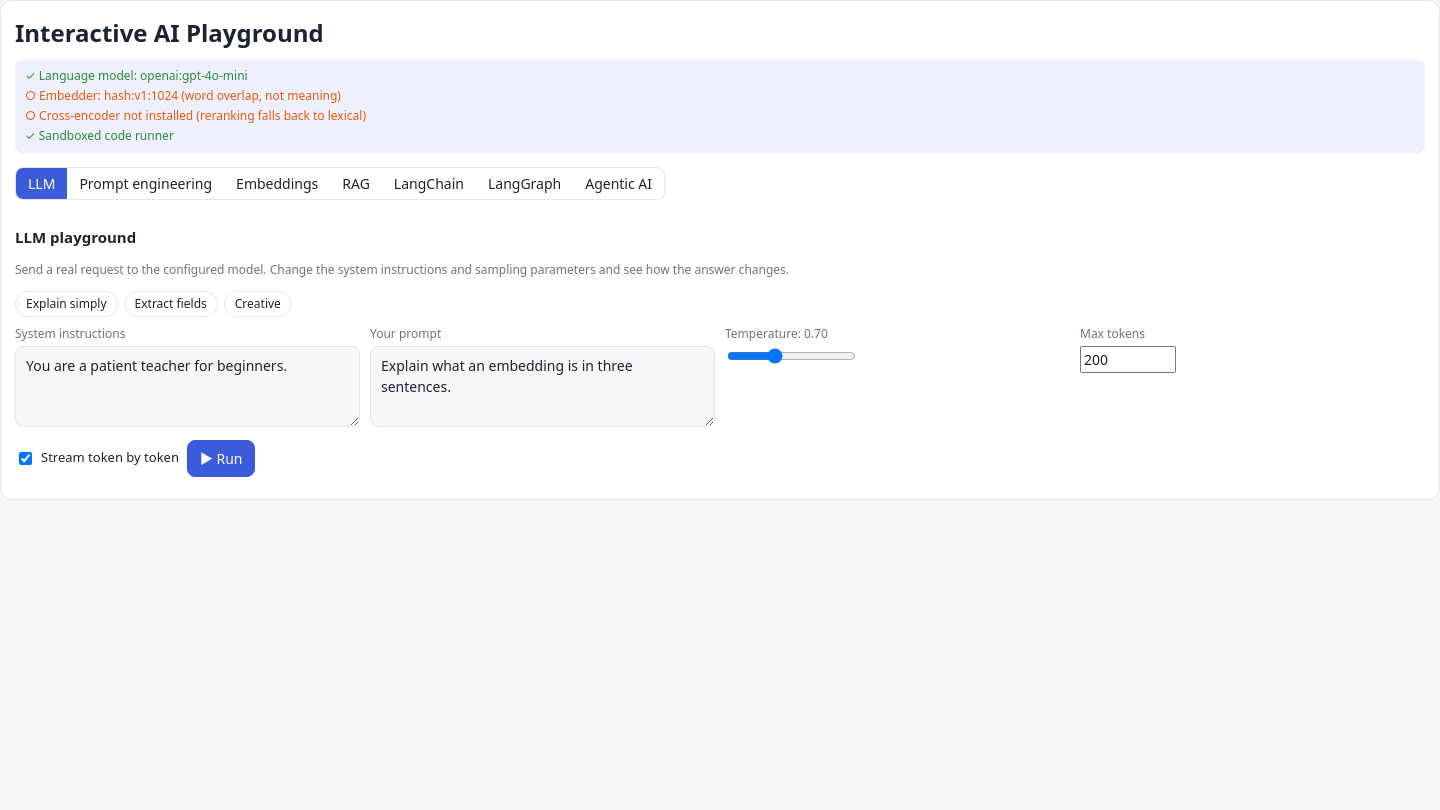
Scenario: Playground › LLM: streams tokens into the output and shows tokens, first-token time and latency
The image size is (1440, 810).
Expected: the list named "What is available on this server" is shown, [15,59,1425,153]
Click the tab "LLM" at point(42, 184), box [16,168,67,199]
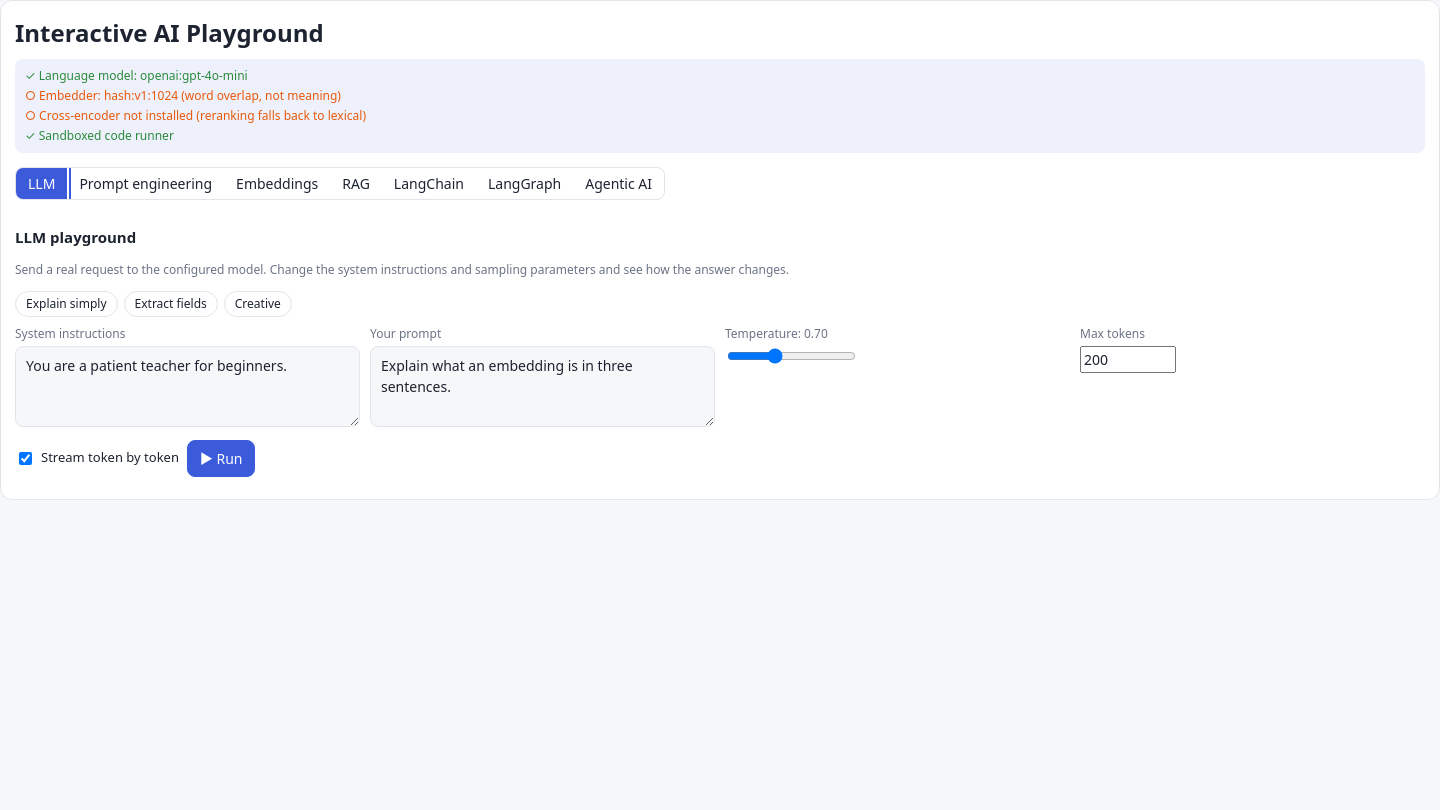
Click the button "▶ Run" at point(221, 458), box [187,440,256,476]
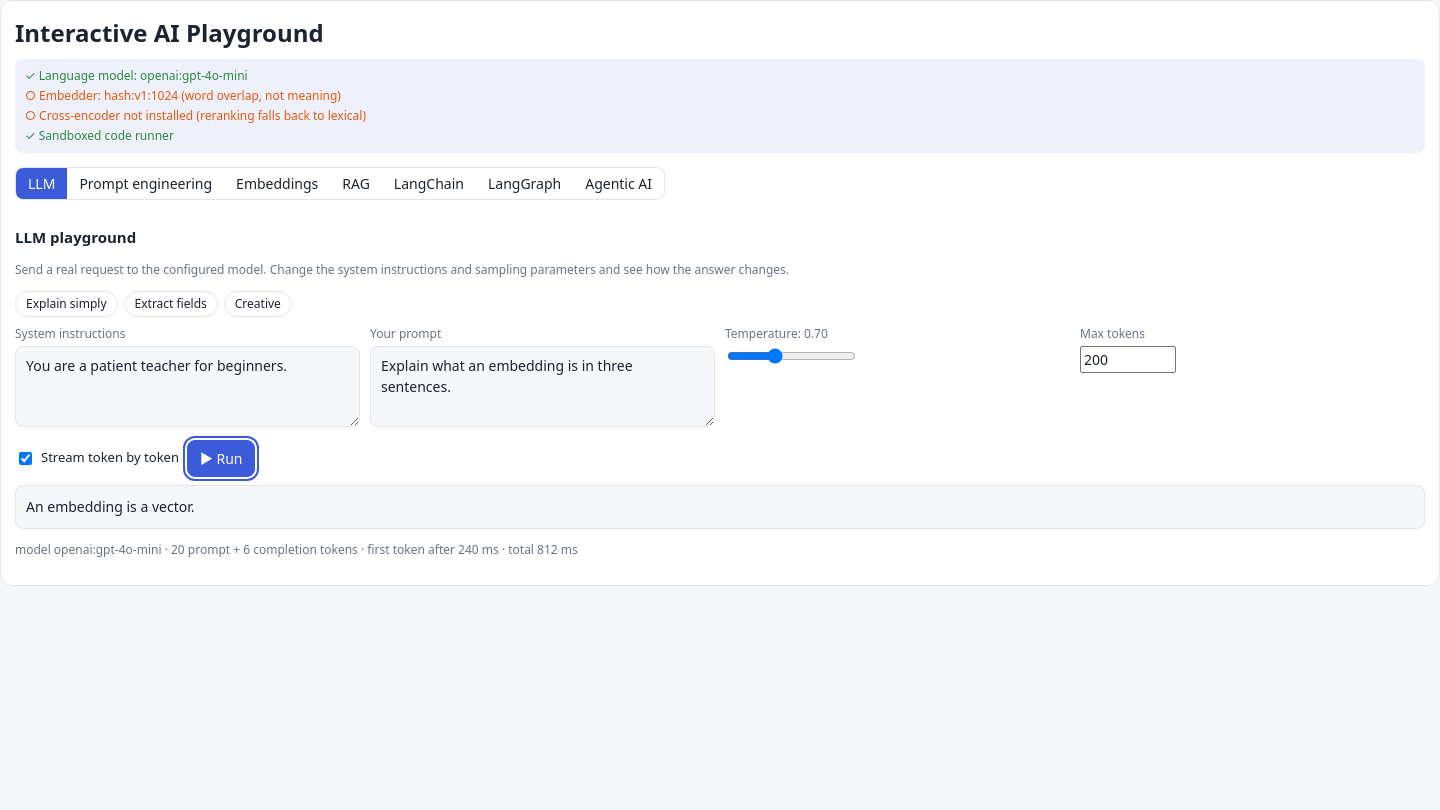
Expected: the text "An embedding is a vector." is shown, [15,484,1425,529]
Expected: the text "20 prompt + 6 completion tokens" is shown, [15,541,578,558]
